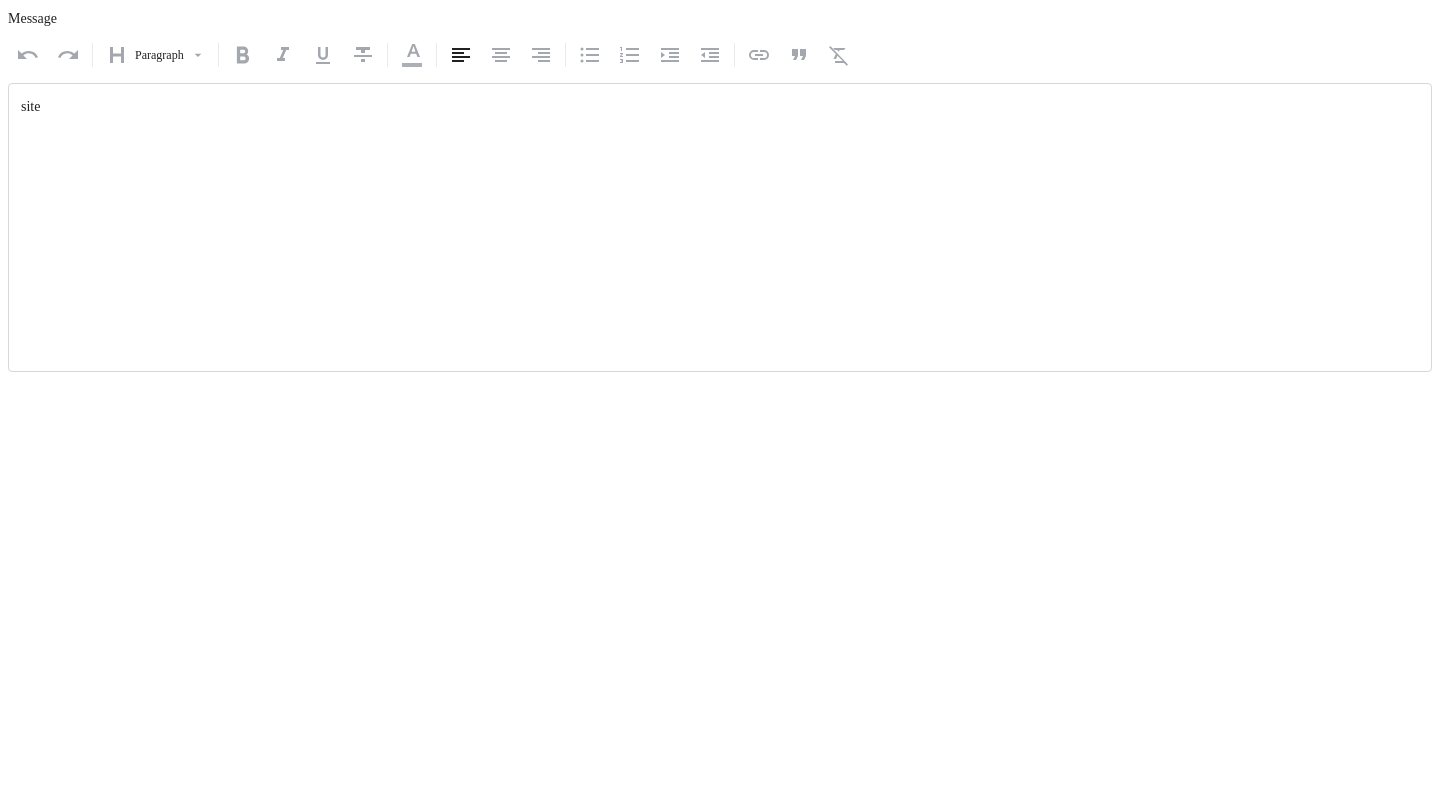
Test: the link popover › shows the consumer validator’s message and does not apply
Click the button named "Link" at {"x": 759, "y": 55}, box left=739, top=35, right=779, bottom=75
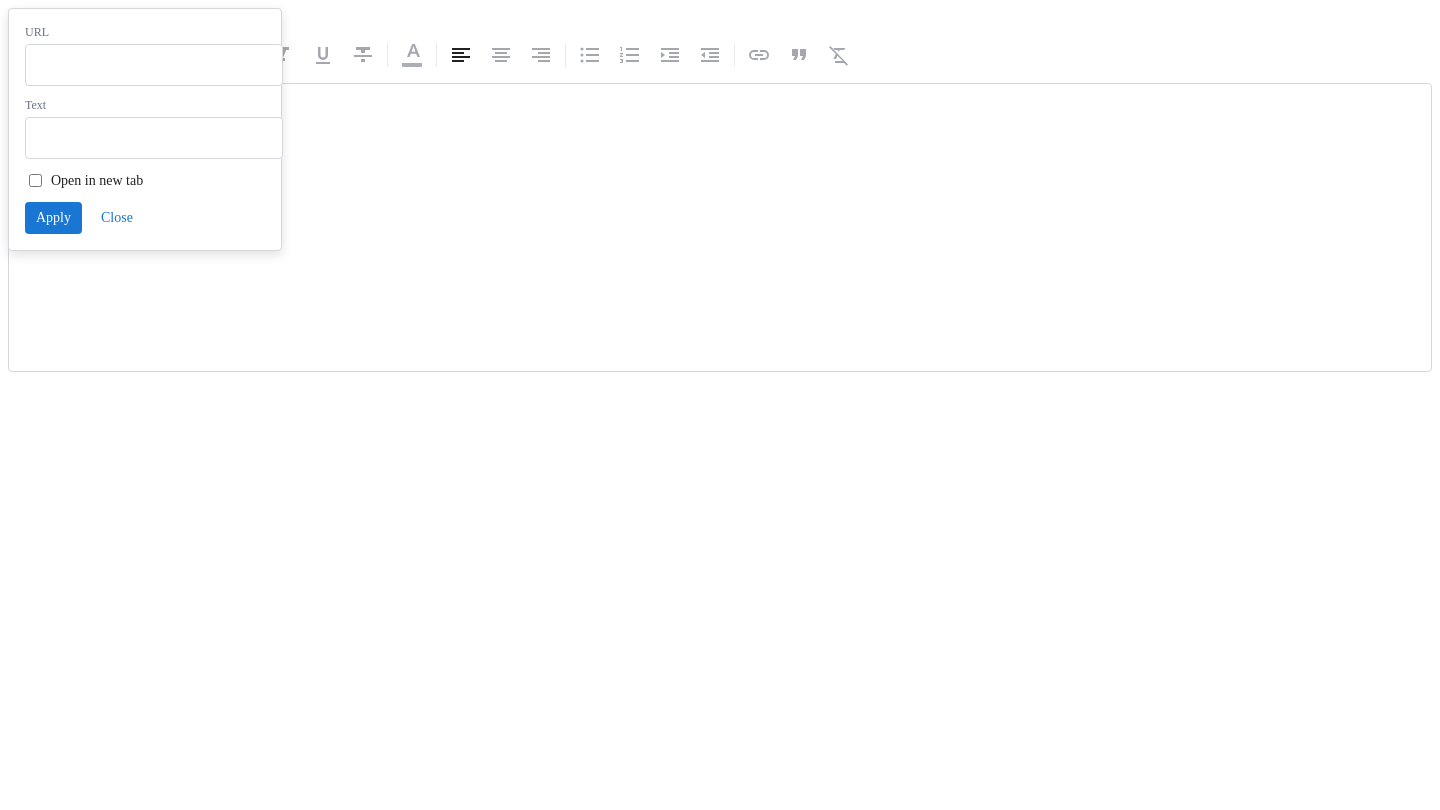
Type "https://example.com" into the field labelled "URL" at {"x": 154, "y": 65}, box left=25, top=44, right=283, bottom=86
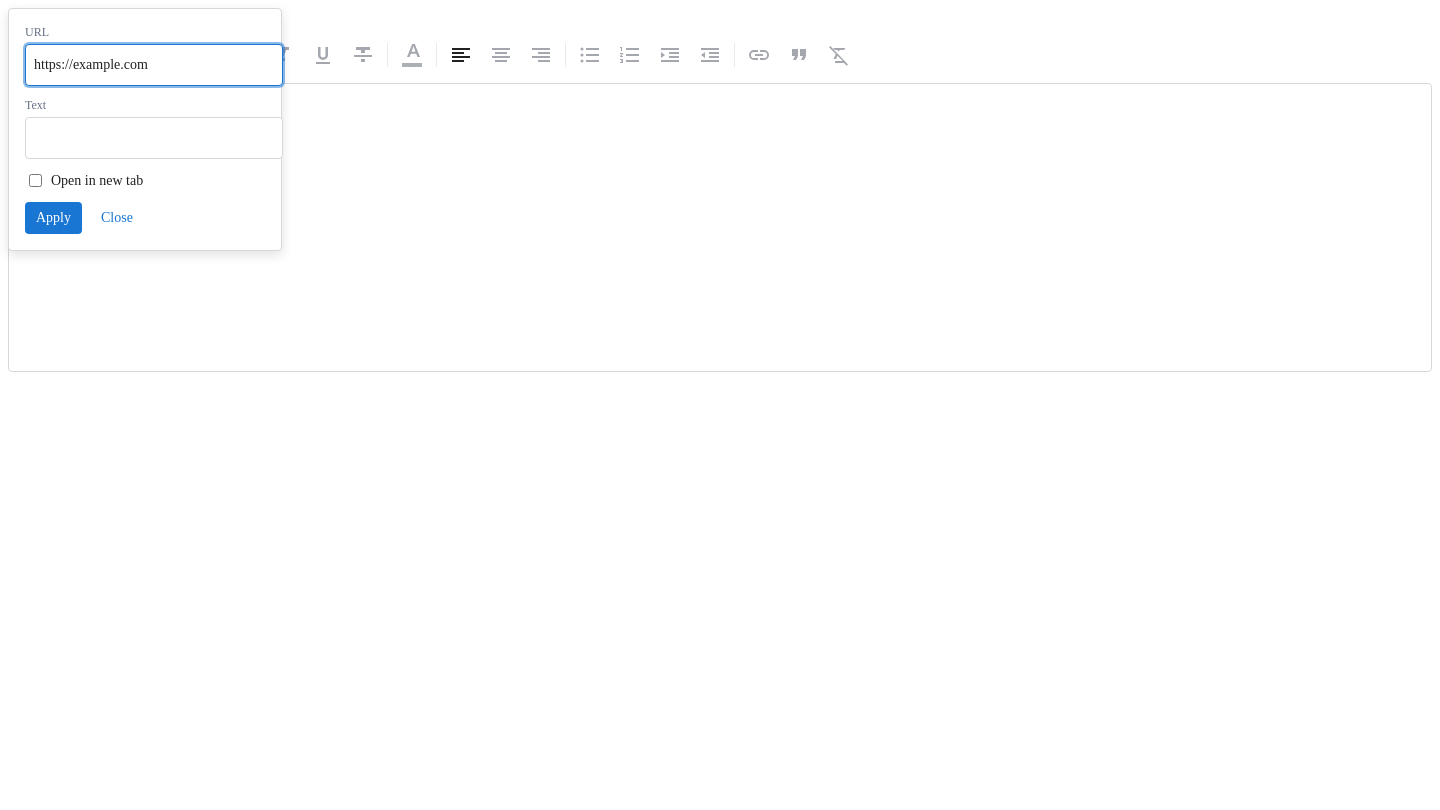
Click the button "Apply" at {"x": 54, "y": 218}, box left=25, top=202, right=82, bottom=234
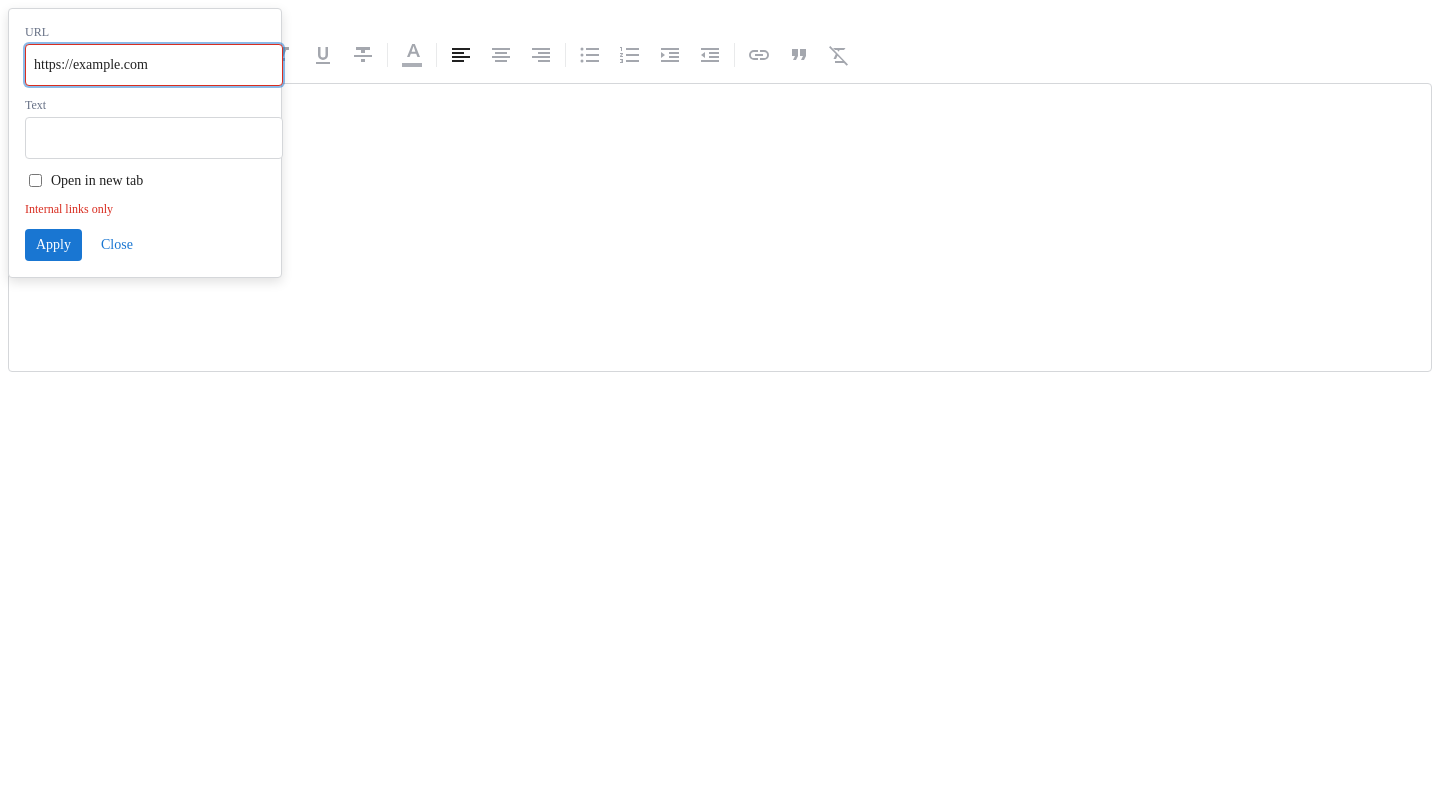
Check: the message reads "Internal links only", box left=25, top=202, right=113, bottom=216
